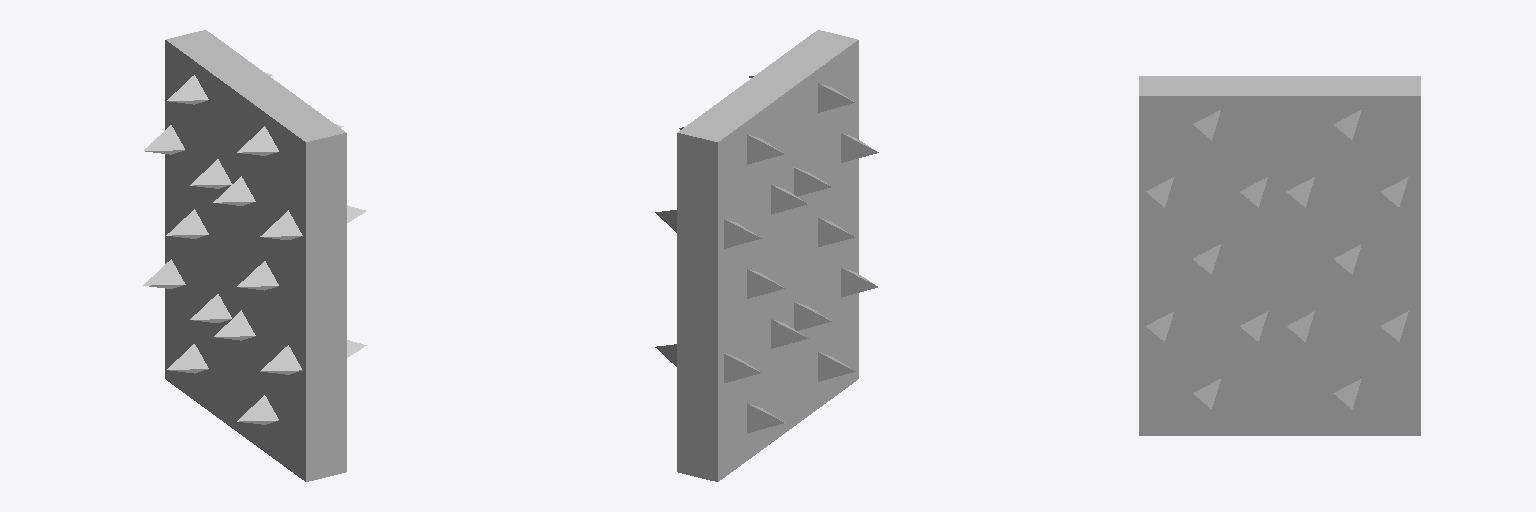
Rendered from spikeWall.obj.
The picture shows the model from 3 angles: view 1: azimuth 30°, elevation 25°; view 2: azimuth 150°, elevation 25°; view 3: azimuth 270°, elevation 25°; orthographic projection.
Visible parts, largest first — view 1: 立方体, 円錐; view 2: 立方体, 円錐; view 3: 立方体, 円錐.
Part boxes in pixels (bbox=[...]): 立方体: bbox=[165, 30, 346, 481]; 円錐: bbox=[143, 73, 366, 424]; 立方体: bbox=[677, 30, 858, 481]; 円錐: bbox=[655, 76, 878, 433]; 立方体: bbox=[1139, 76, 1420, 435]; 円錐: bbox=[1146, 110, 1408, 409].
Size of the model in its own units: 2.64 by 8 by 6.